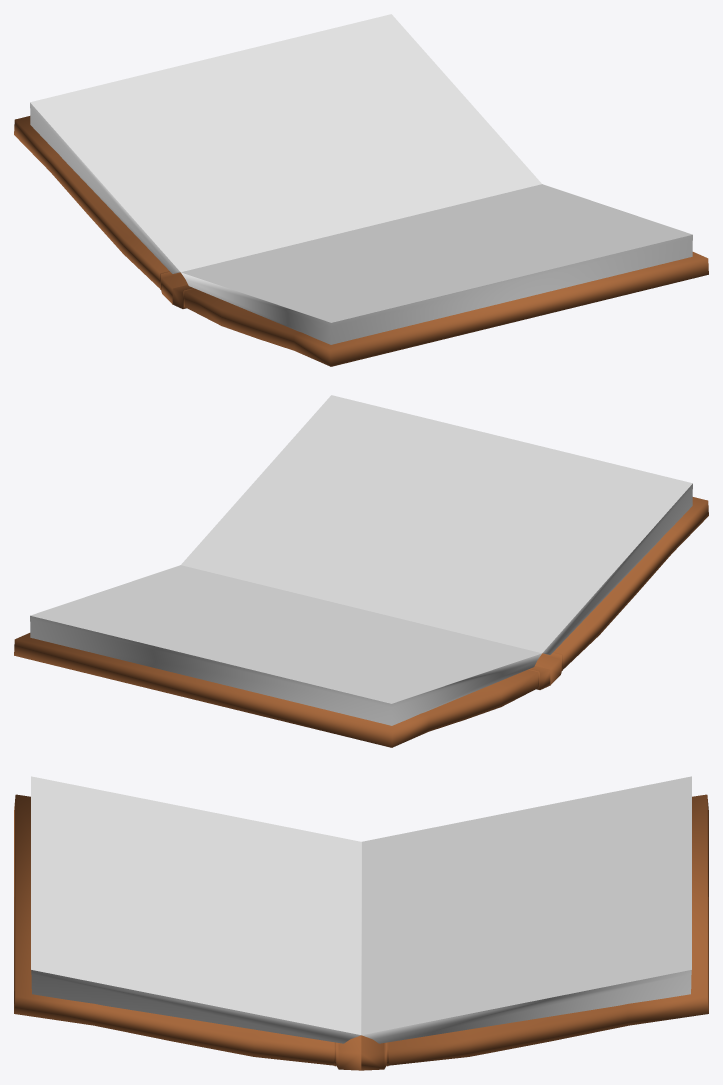
The model's file is openbook.glb.
3 views of the same model, one above another, from view 1: azimuth 30°, elevation 25°; view 2: azimuth 150°, elevation 25°; view 3: azimuth 270°, elevation 25° (orthographic). The views are drawn at different scales.
Parts seen in each view (by area): view 1: Cube; view 2: Cube; view 3: Cube.
Boxes of the visible parts, left/top/right/bottom form: Cube: left=14, top=14, right=708, bottom=366; Cube: left=14, top=395, right=708, bottom=747; Cube: left=14, top=776, right=708, bottom=1070.
Bounding box in the file's own units: 2 × 0.4549 × 2.91.
